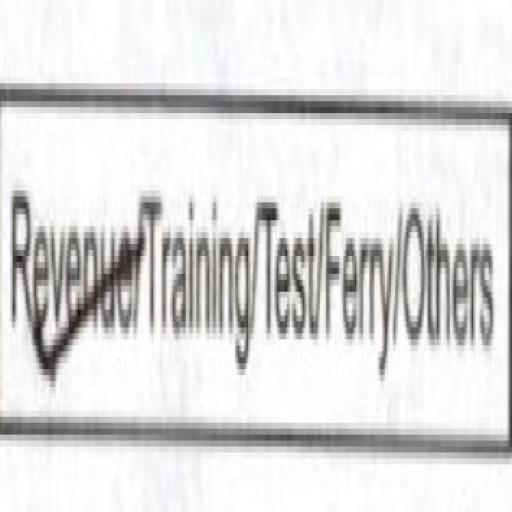check: (4, 36, 130, 460)
